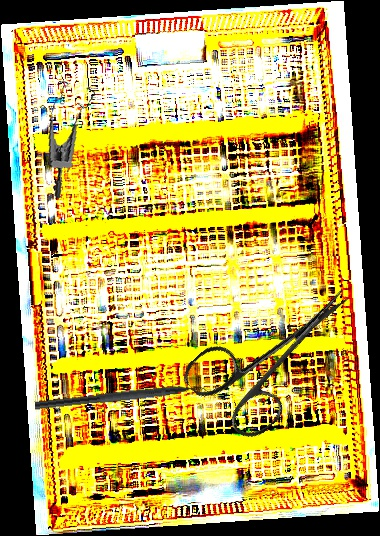Chopper: (34, 379, 217, 422)
Iris Scissors: (178, 254, 378, 449)
Speculum: (35, 75, 111, 200)
